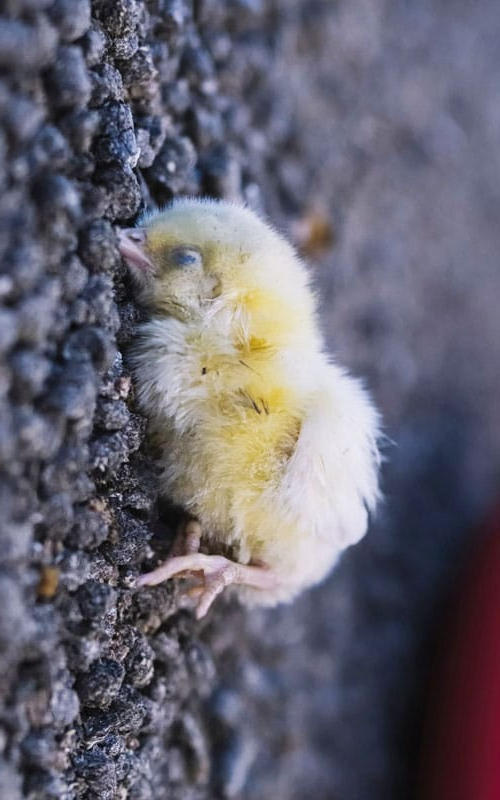Unhealthy: (96, 178, 395, 645)
